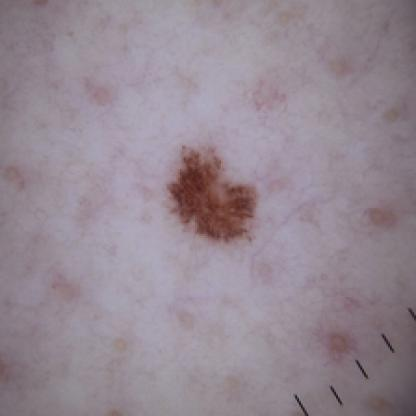benign: (156, 141, 284, 256)
